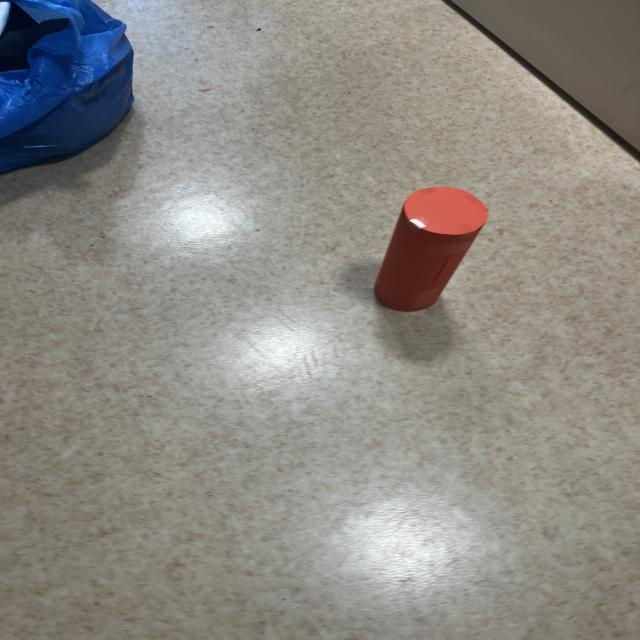przeszkoda: (374, 187, 488, 311)
